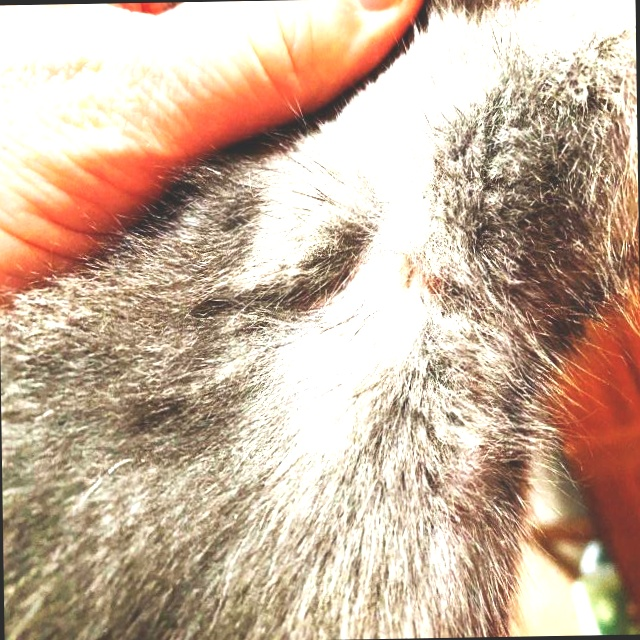hairloss: (322, 237, 445, 333)
